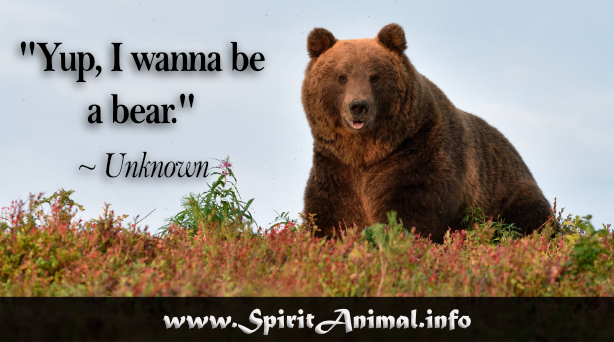bear: (300, 22, 410, 140)
